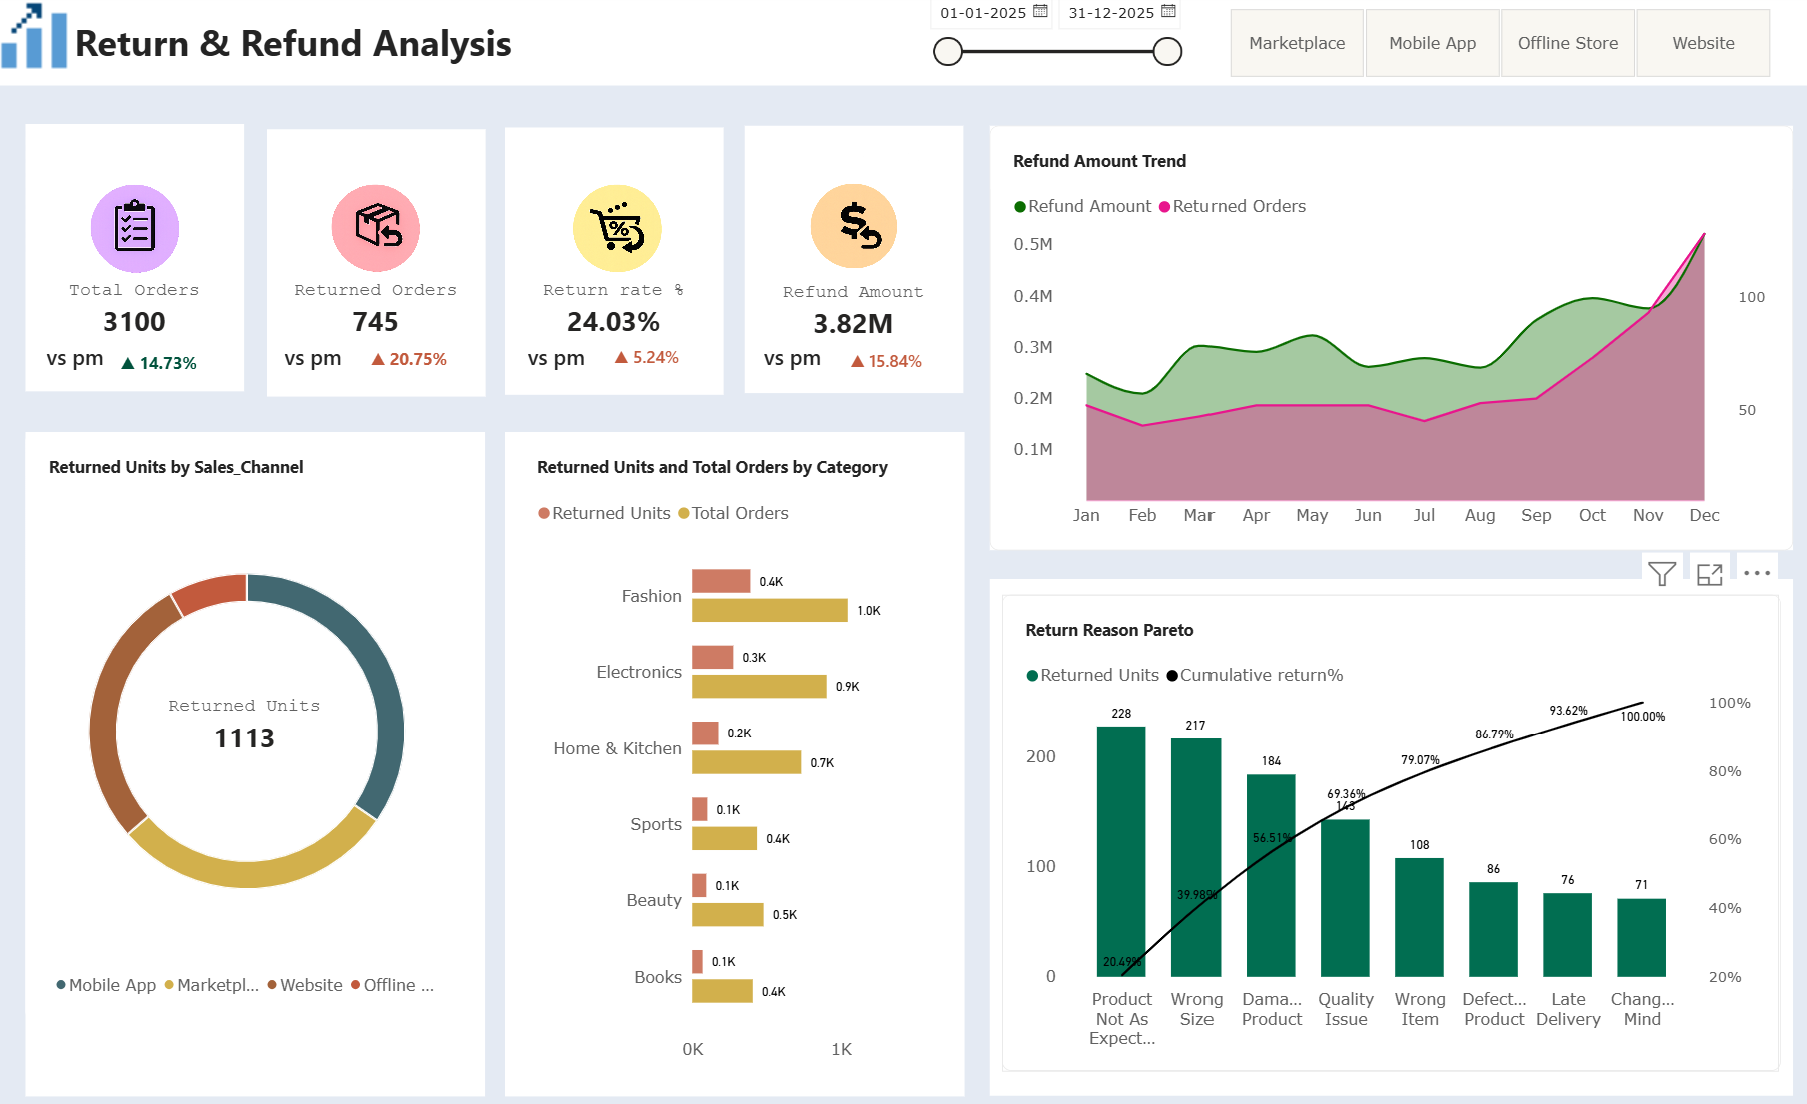

Layout of this report page (visuals, bound fields, positions):
{"tool":"powerbi","page":{"name":"Executive Summary","canvas":[1600,1000],"ordinal":0},"visuals":[{"type":"shape","box":[0,0,1599.7,83.6],"z":0},{"type":"shape","box":[28,118.2,193,236],"z":1000},{"type":"shape","box":[241,122,193,236],"z":2000},{"type":"shape","box":[451.1,120.5,193,236],"z":3000},{"type":"shape","box":[662.8,119,193,236],"z":4000},{"type":"shape","box":[878.4,119.7,707.4,374.7],"z":5000},{"type":"shape","box":[878.4,519.3,707.4,457.1],"z":6000},{"type":"shape","box":[28,388.7,405.8,587.7],"z":7000},{"type":"shape","box":[450.9,388.7,405.8,587.7],"z":8000},{"type":"textbox","box":[71.5,23.3,446.2,45.1],"z":9000},{"type":"cardVisual","fields":{"Data":["1st page measures.Total Orders"]},"box":[48.2,236.3,152.4,91.7],"z":10000},{"type":"cardVisual","fields":{"Data":["1st page measures.Returned Orders"]},"box":[241,236.3,192.8,91.7],"z":11000},{"type":"cardVisual","fields":{"Data":["1st page measures.Return rate %"]},"box":[450.9,236.3,192.8,91.7],"z":12000},{"type":"cardVisual","fields":{"Data":["1st page measures.Refund Amount"]},"box":[662.3,237.9,192.8,91.7],"z":13000},{"type":"areaChart","title":"Refund Amount Trend","fields":{"Category":["Dim_Date.Month Name"],"Y":["1st page measures.Refund Amount"],"Y2":["1st page measures.Returned Orders"]},"box":[878.4,119.7,707.4,374.7],"z":14000},{"type":"slicer","fields":{"Values":["Dim_Channel.Sales_Channel"]},"box":[1069.6,14,516.2,63.7],"z":15000},{"type":"lineClusteredColumnComboChart","title":"Return Reason Pareto","fields":{"Category":["Dim_ReturnReason.Return_Reason"],"Y":["1st page measures.Returned Units"],"Y2":["1st page measures.Cumulative return%"]},"box":[889.3,533.3,685.6,421.3],"z":16000},{"type":"clusteredBarChart","fields":{"Category":["Dim_Products.Category"],"Y":["1st page measures.Returned Units","1st page measures.Total Orders"]},"box":[458.6,388.7,385.6,576.8],"z":17000},{"type":"donutChart","fields":{"Category":["Dim_Channel.Sales_Channel"],"Y":["1st page measures.Returned Units"]},"box":[28,388.7,391.8,520.8],"z":18000},{"type":"cardVisual","fields":{"Data":["1st page measures.Returned Units"]},"box":[124.4,604.8,192.8,91.7],"z":19000},{"type":"image","box":[48.2,141.5,152.4,143],"z":20000},{"type":"image","box":[256.5,141.5,160.1,143],"z":21000},{"type":"image","box":[662.3,141.5,192.8,138.4],"z":22000},{"type":"image","box":[471.1,141.5,158.6,143],"z":23000},{"type":"cardVisual","fields":{"Data":["1st page measures.Total Orders mom var"]},"box":[96.4,293.8,104.2,70],"z":24000},{"type":"slicer","fields":{"Values":["Dim_Date.Date"]},"box":[819.3,0,233.2,77.7],"z":25000},{"type":"textbox","box":[46.6,310.9,77.7,43.5],"z":26000},{"type":"cardVisual","fields":{"Data":["1st page measures.Returned Orders mom var"]},"box":[317.2,284.5,102.6,80.8],"z":27000},{"type":"cardVisual","fields":{"Data":["1st page measures.Return Rate mom var"]},"box":[531.7,283,111.9,79.3],"z":28000},{"type":"cardVisual","fields":{"Data":["1st page measures.Refund Amount mom var"]},"box":[740,270.5,119.7,110.4],"z":29000},{"type":"textbox","box":[256.5,310.9,80.8,43.5],"z":30000},{"type":"textbox","box":[471.1,310.9,76.2,46.6],"z":31000},{"type":"textbox","box":[679.4,310.9,59.1,48.2],"z":32000},{"type":"image","box":[0,7.4,70.6,63.2],"z":32001}]}

Visuals, with their boxes in screenshot pixels (x1, y1, x2, y2), scaled from the page's 1600x1000 canvas onto the 1807x1104 screenshot:
shape: 0 0 1806 92
shape: 32 130 250 391
shape: 272 135 490 395
shape: 509 133 727 394
shape: 749 131 967 392
shape: 992 132 1791 546
shape: 992 573 1791 1078
shape: 32 429 490 1078
shape: 509 429 968 1078
textbox: 81 26 585 76
cardVisual - 1st page measures.Total Orders: 54 261 227 362
cardVisual - 1st page measures.Returned Orders: 272 261 490 362
cardVisual - 1st page measures.Return rate %: 509 261 727 362
cardVisual - 1st page measures.Refund Amount: 748 263 966 364
"Refund Amount Trend" areaChart: 992 132 1791 546
slicer - Dim_Channel.Sales_Channel: 1208 15 1791 86
"Return Reason Pareto" lineClusteredColumnComboChart: 1004 589 1779 1054
clusteredBarChart - Dim_Products.Category x 1st page measures.Returned Units: 518 429 953 1066
donutChart - Dim_Channel.Sales_Channel x 1st page measures.Returned Units: 32 429 474 1004
cardVisual - 1st page measures.Returned Units: 140 668 358 769
image: 54 156 227 314
image: 290 156 470 314
image: 748 156 966 309
image: 532 156 711 314
cardVisual - 1st page measures.Total Orders mom var: 109 324 227 402
slicer - Dim_Date.Date: 925 0 1189 86
textbox: 53 343 140 391
cardVisual - 1st page measures.Returned Orders mom var: 358 314 474 403
cardVisual - 1st page measures.Return Rate mom var: 600 312 727 400
cardVisual - 1st page measures.Refund Amount mom var: 836 299 971 421
textbox: 290 343 381 391
textbox: 532 343 618 395
textbox: 767 343 834 396
image: 0 8 80 78
